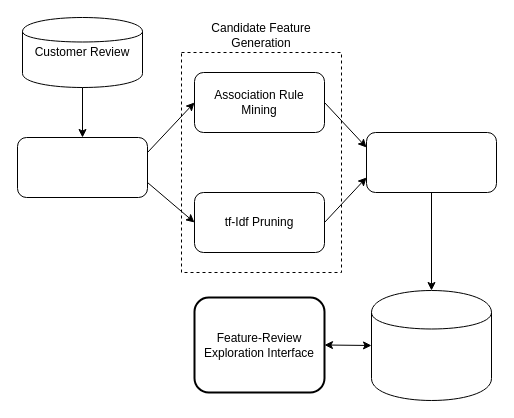
This 514x418 diagram has some shape labels left out. The shapes that lost their labels are listed below. From the top down, each one's box as (x1, y1, x2, y2) in pixels, then its label:
(16, 136, 148, 198): Preprocessing
(366, 132, 496, 192): Feature Ontology Tree Construction
(370, 290, 492, 400): Mining Feature-Review Mapping
